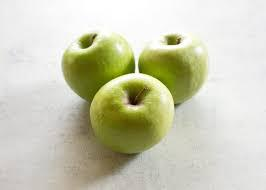apple: (89, 71, 170, 152), (144, 28, 211, 95), (63, 41, 123, 84)
